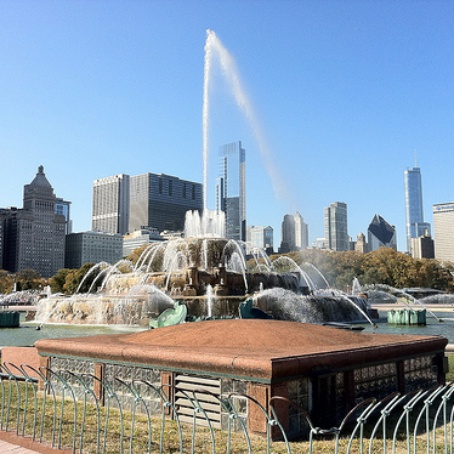building: (90, 168, 205, 237), (1, 171, 69, 280), (394, 165, 431, 257), (217, 139, 247, 242), (68, 227, 125, 269), (318, 203, 353, 257), (424, 203, 454, 262), (358, 213, 397, 254), (247, 216, 275, 250), (281, 212, 307, 245)
fountain: (21, 20, 398, 336)
sky: (1, 1, 442, 183)
